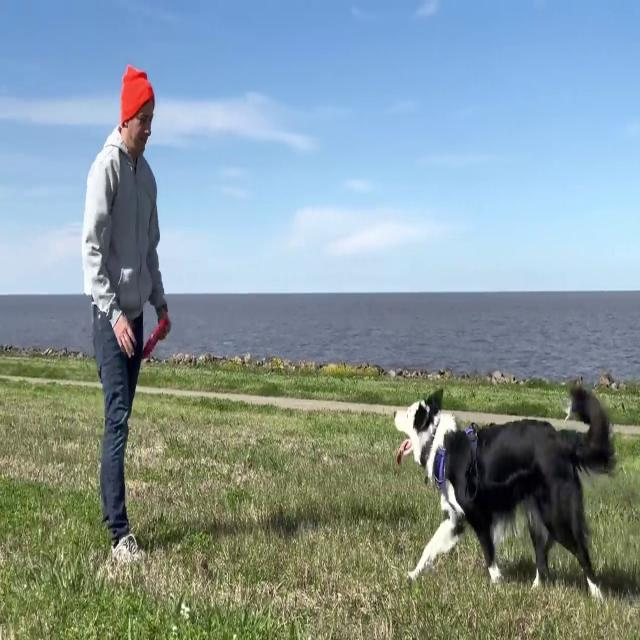Unleashed_Dog: (100, 384, 612, 608)
